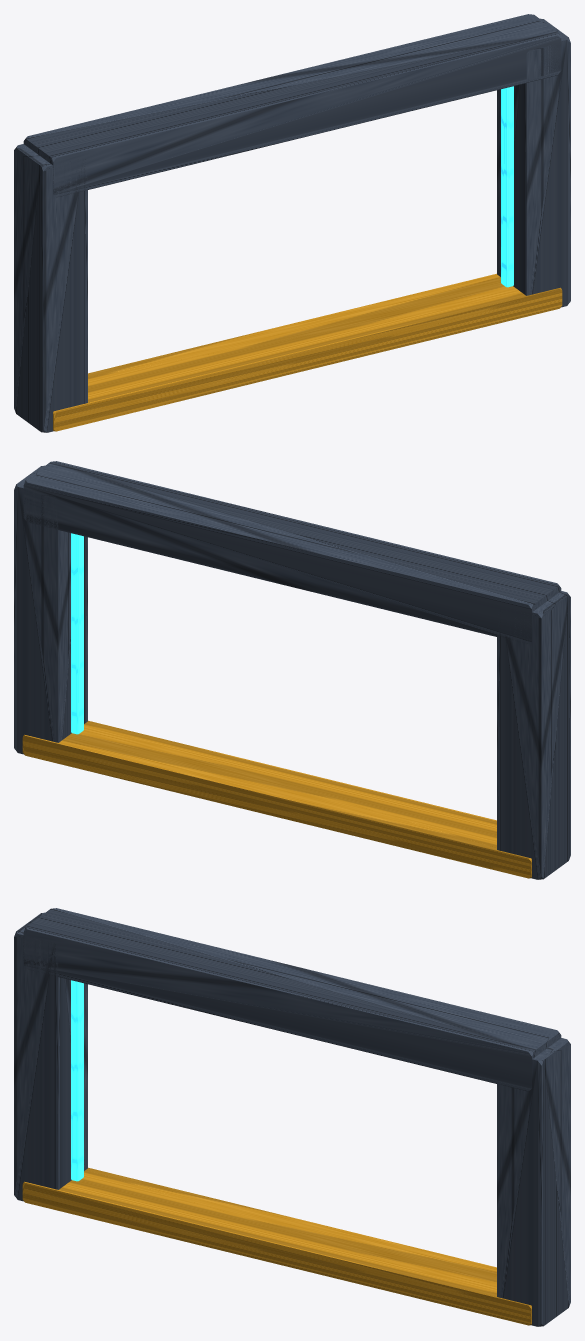
The model's file is hangar_launch_gate.glb.
3 renders of one model, top to bottom at view 1: azimuth 30°, elevation 25°; view 2: azimuth 150°, elevation 25°; view 3: azimuth 330°, elevation 25°, orthographic.
Parts seen in each view (by area): view 1: hangar_launch_gate; view 2: hangar_launch_gate; view 3: hangar_launch_gate.
Part boxes in pixels (<box>): hangar_launch_gate: <box>14,14,570,432</box>; hangar_launch_gate: <box>14,461,570,879</box>; hangar_launch_gate: <box>14,908,570,1326</box>.
Size of the model in its own units: 33.2 by 16.4 by 3.4.
Materials: 1 (1 with a texture image).
